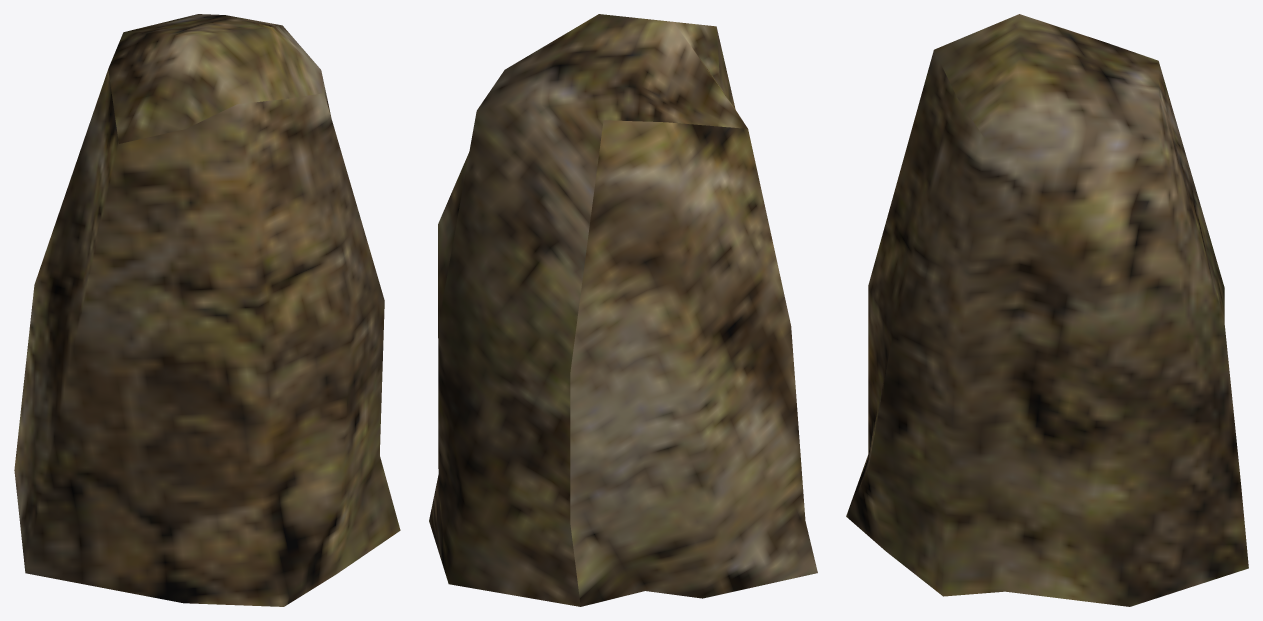
3 renders of one model, left to right at view 1: azimuth 30°, elevation 25°; view 2: azimuth 150°, elevation 25°; view 3: azimuth 270°, elevation 25°, orthographic.
Visible parts, largest first — view 1: a73; view 2: a73; view 3: a73.
Boxes of the visible parts, x1,y1,x2,y2 form: a73: [14, 14, 400, 606]; a73: [429, 14, 817, 606]; a73: [846, 14, 1248, 606].
Size of the model in its own units: 396 by 548 by 399.
1 material, 1 textured.
